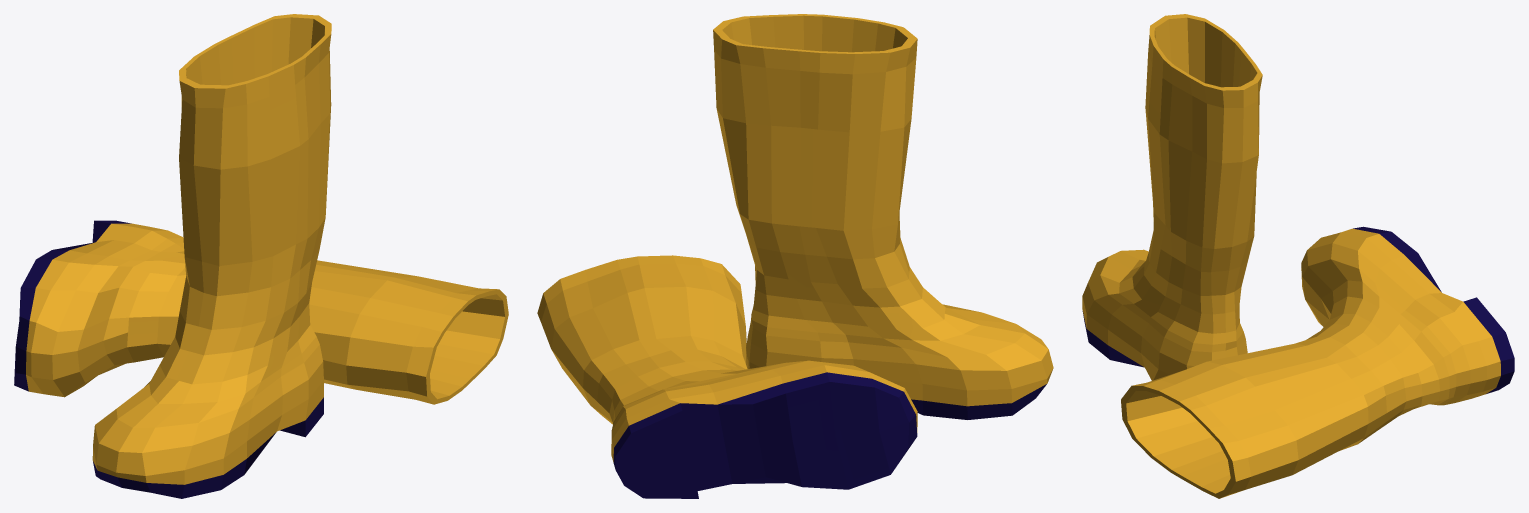
Rendered from rubber boots untidy.fbx.
3 renders of one model, left to right at view 1: azimuth 30°, elevation 25°; view 2: azimuth 150°, elevation 25°; view 3: azimuth 270°, elevation 25°, orthographic. The views are drawn at different scales.
Parts seen in each view (by area): view 1: boots; view 2: boots; view 3: boots.
Boxes of the visible parts, x1,y1,x2,y2 form: boots: [14, 14, 508, 498]; boots: [537, 14, 1053, 498]; boots: [1082, 14, 1514, 498].
Bounding box in the file's own units: 50.56 × 38.28 × 44.4.
